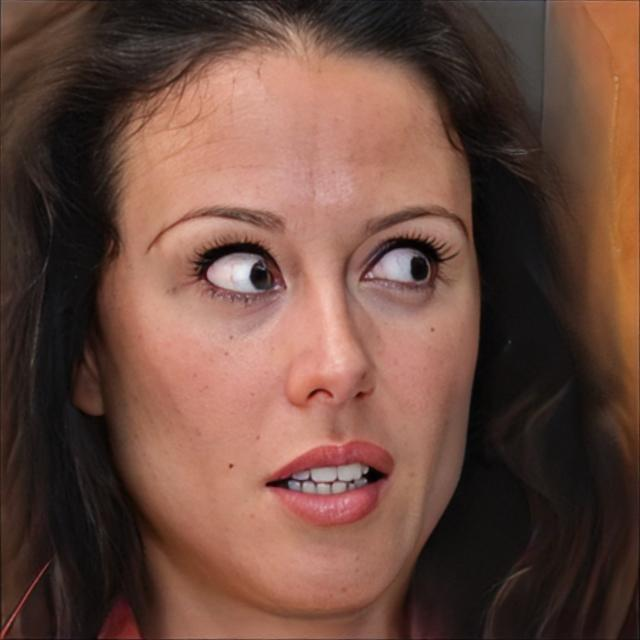disgust: (104, 40, 482, 618)
